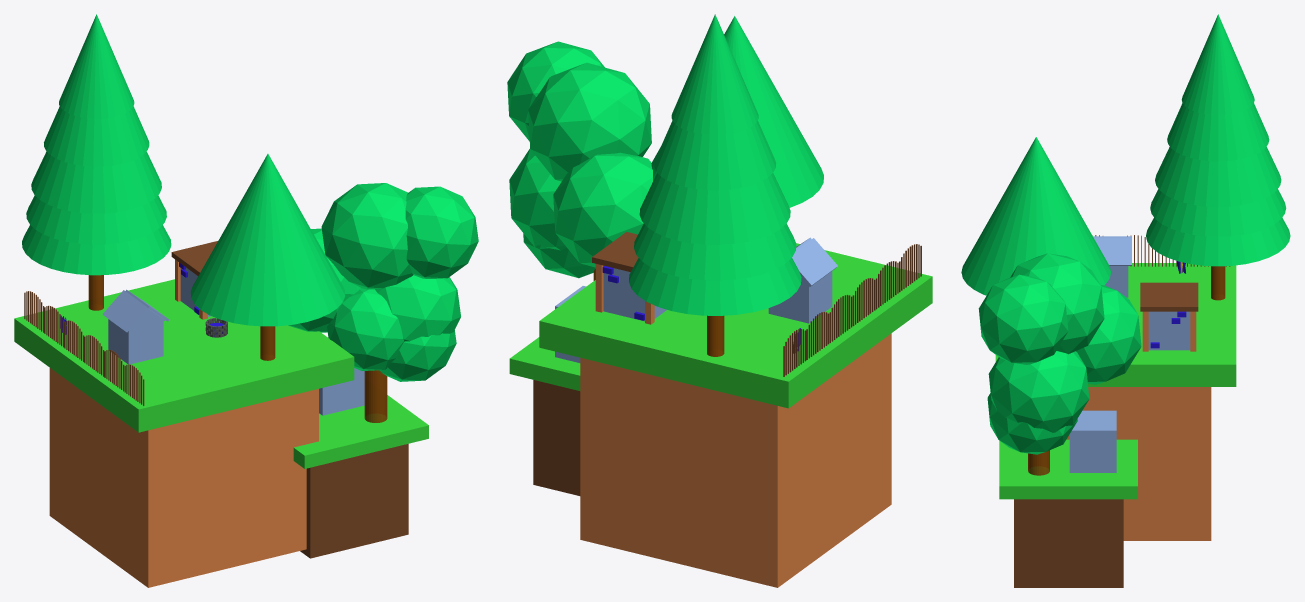
File: tutorial.fbx
3 renders of one model, left to right at view 1: azimuth 30°, elevation 25°; view 2: azimuth 150°, elevation 25°; view 3: azimuth 270°, elevation 25°, orthographic. The views are drawn at different scales.
Parts seen in each view (by area): view 1: Cube, Cube.001, Cone, Cube.162, Icosphere.010, Cone.003, Icosphere.011, Cube.163, Cone.004, Cone.001, Cone.005, Cone.002 (+9 smaller); view 2: Cube, Cube.001, Icosphere.010, Icosphere.009, Cone.003, Cone.004, Cone.001, Cone, Cone.005, Cone.002, Cube.162, Icosphere.006 (+8 smaller); view 3: Cube, Cone, Cube.162, Cube.001, Icosphere.011, Icosphere.006, Cube.163, Cone.003, Cone.004, Cone.001, Icosphere.010, Cone.005 (+10 smaller).
Boxes of the visible parts, x1,y1,x2,y2 form: Cube: (49,368,318,587); Cube.001: (14,279,354,432); Cone: (190,154,345,326); Cube.162: (300,444,408,558); Icosphere.010: (321,183,413,289); Cone.003: (31,151,161,213); Icosphere.011: (405,186,478,278); Cube.163: (293,395,428,468); Cone.004: (44,106,149,166); Cone.001: (22,225,171,275); Cone.005: (59,14,134,118); Cone.002: (26,195,166,244); Cube: (580,333,891,587); Cube.001: (539,243,932,408); Icosphere.010: (528,62,651,181); Icosphere.009: (553,152,652,267); Cone.003: (639,173,790,244); Cone.004: (654,120,776,190); Cone.001: (629,258,801,315); Cone: (651,16,823,207); Cone.005: (671,14,758,134); Cone.002: (634,223,796,280); Cube.162: (533,380,580,495); Icosphere.006: (509,149,566,250); Cube: (1066,387,1211,540); Cone: (961,137,1110,295); Cube.162: (1014,499,1123,587); Cube.001: (995,263,1236,386); Icosphere.011: (978,274,1068,364); Icosphere.006: (988,351,1089,432); Cube.163: (999,439,1137,499); Cone.003: (1155,146,1281,206); Cone.004: (1167,103,1269,161); Cone.001: (1146,217,1290,266); Icosphere.010: (1010,253,1104,354); Cone.005: (1181,14,1254,115).
Bounding box in the file's own units: 819 × 1111 × 695.
